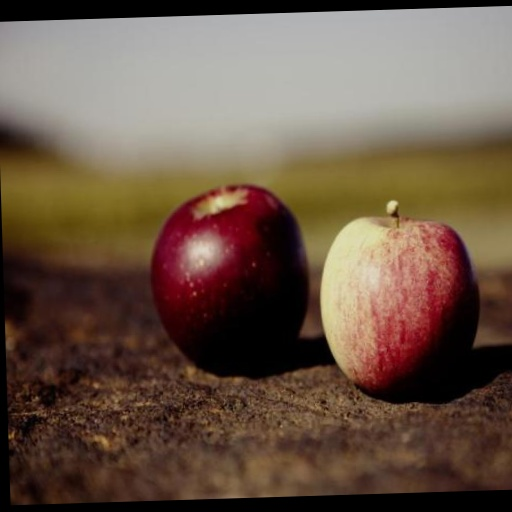fruit: (320, 202, 479, 396), (151, 185, 308, 373)
